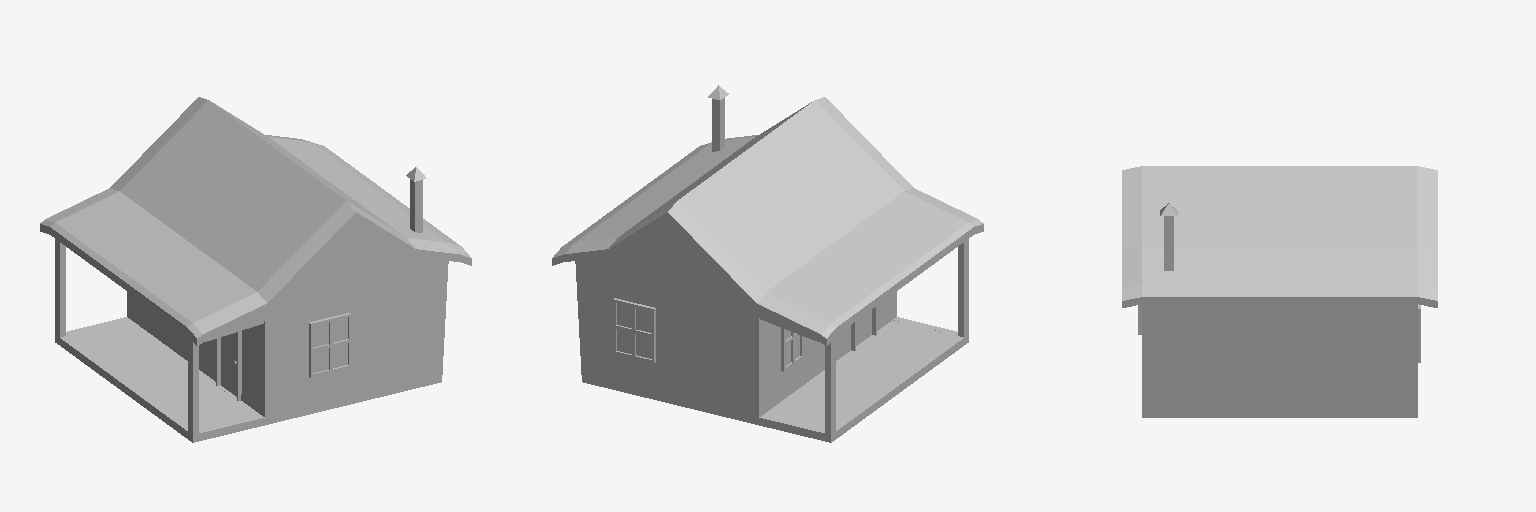
The model's file is house.obj.
3 renders of one model, left to right at view 1: azimuth 30°, elevation 25°; view 2: azimuth 150°, elevation 25°; view 3: azimuth 270°, elevation 25°, orthographic.
Visible parts, largest first — view 1: Box002; view 2: Box002; view 3: Box002.
Boxes of the visible parts, x1=… form: Box002: x1=40, y1=97, x2=471, y2=442; Box002: x1=552, y1=85, x2=983, y2=442; Box002: x1=1122, y1=166, x2=1437, y2=417.
Size of the model in its own units: 10.37 by 7.54 by 10.3.